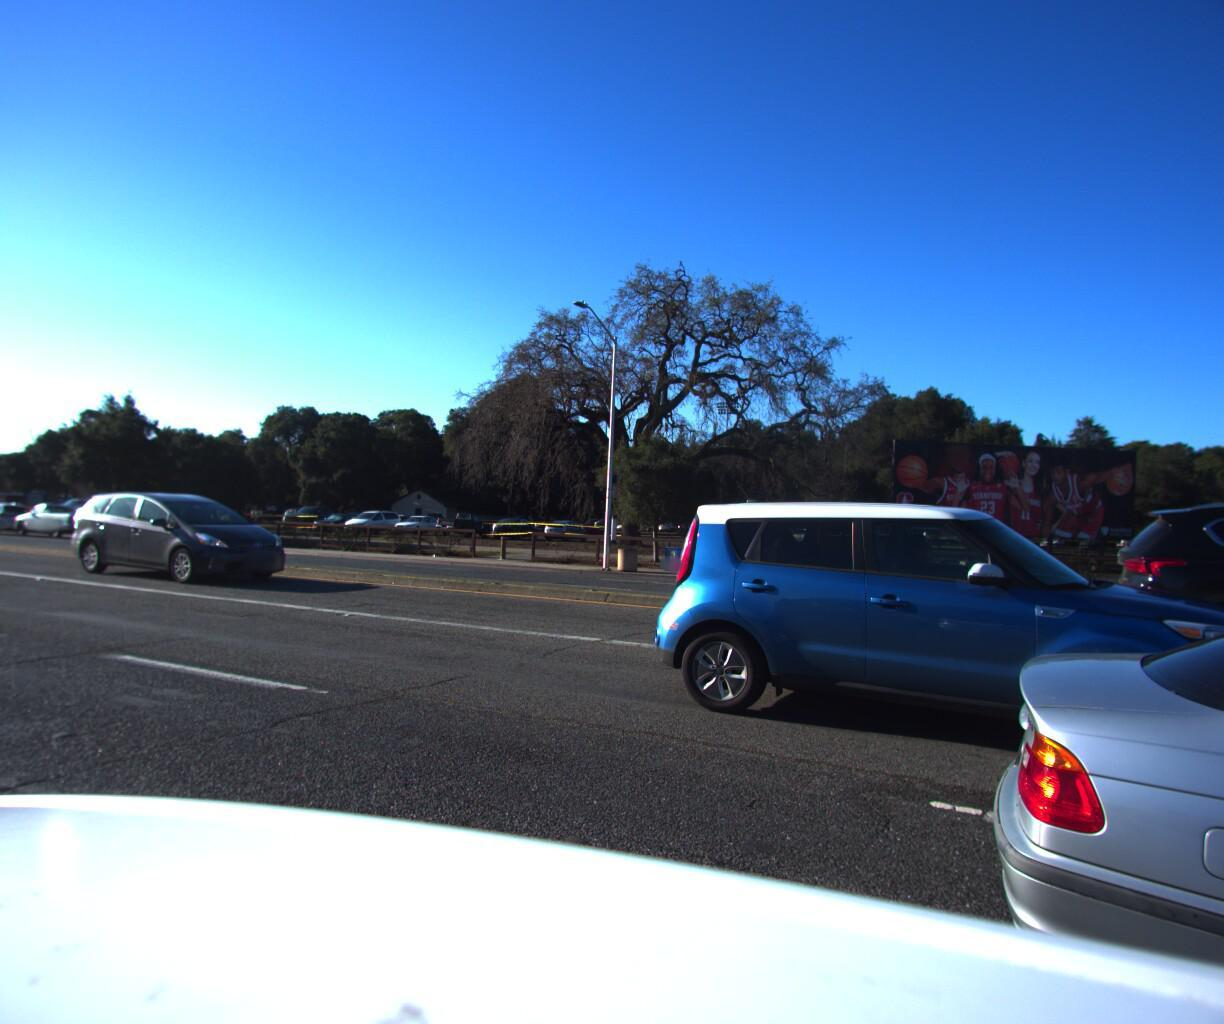car: (634, 490, 1224, 795), (913, 542, 1224, 1024), (1080, 478, 1224, 752), (64, 480, 301, 582), (7, 496, 106, 534), (0, 494, 34, 528)
